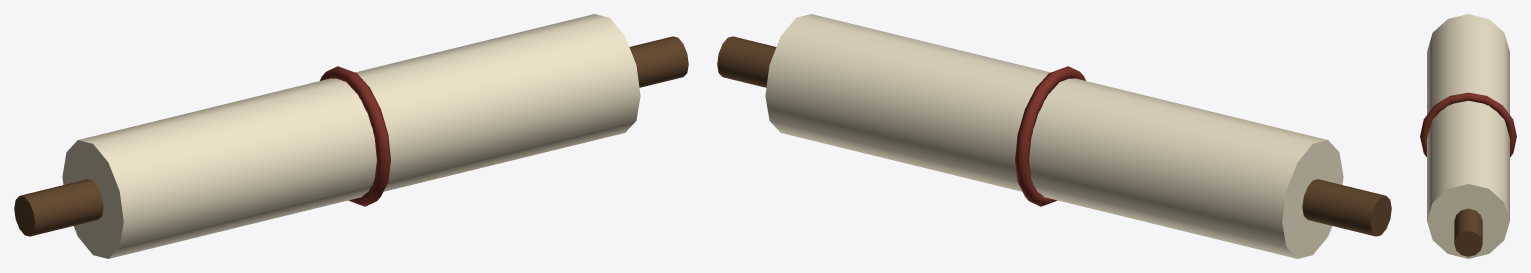
File: scroll-rolled.glb
3 views of the same model, side by side, from view 1: azimuth 30°, elevation 25°; view 2: azimuth 150°, elevation 25°; view 3: azimuth 270°, elevation 25° (orthographic). The views are drawn at different scales.
Size of the model in its own units: 0.43 by 0.082 by 0.082.
